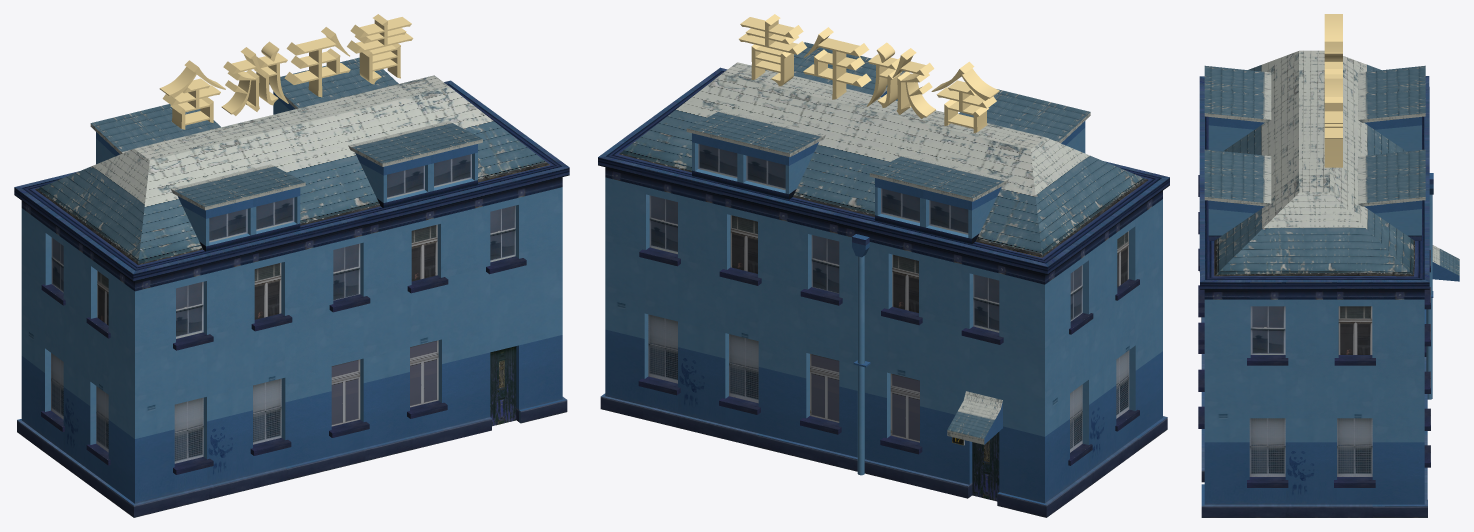
File: 青年旅社.gltf
The picture shows the model from 3 angles, left to right: view 1: azimuth 30°, elevation 25°; view 2: azimuth 150°, elevation 25°; view 3: azimuth 270°, elevation 25°; orthographic projection. The views are drawn at different scales.
Visible parts, largest first — view 1: node__-15452, node__-15460; view 2: node__-15452, node__-15460; view 3: node__-15452, node__-15460.
Part boxes in pixels (x1=…): node__-15452: x1=14, y1=57, x2=569, y2=517; node__-15460: x1=159, y1=14, x2=413, y2=129; node__-15452: x1=598, y1=42, x2=1169, y2=517; node__-15460: x1=739, y1=14, x2=999, y2=132; node__-15452: x1=1198, y1=50, x2=1459, y2=517; node__-15460: x1=1324, y1=14, x2=1342, y2=167.
Size of the model in its own units: 10.56 by 8.57 by 5.64.
